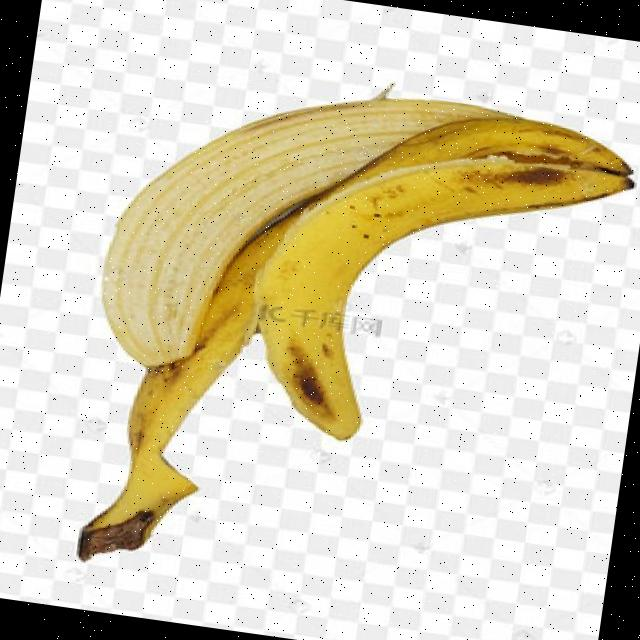banana-peel: (64, 52, 640, 629), (89, 48, 528, 416), (234, 102, 638, 474)
